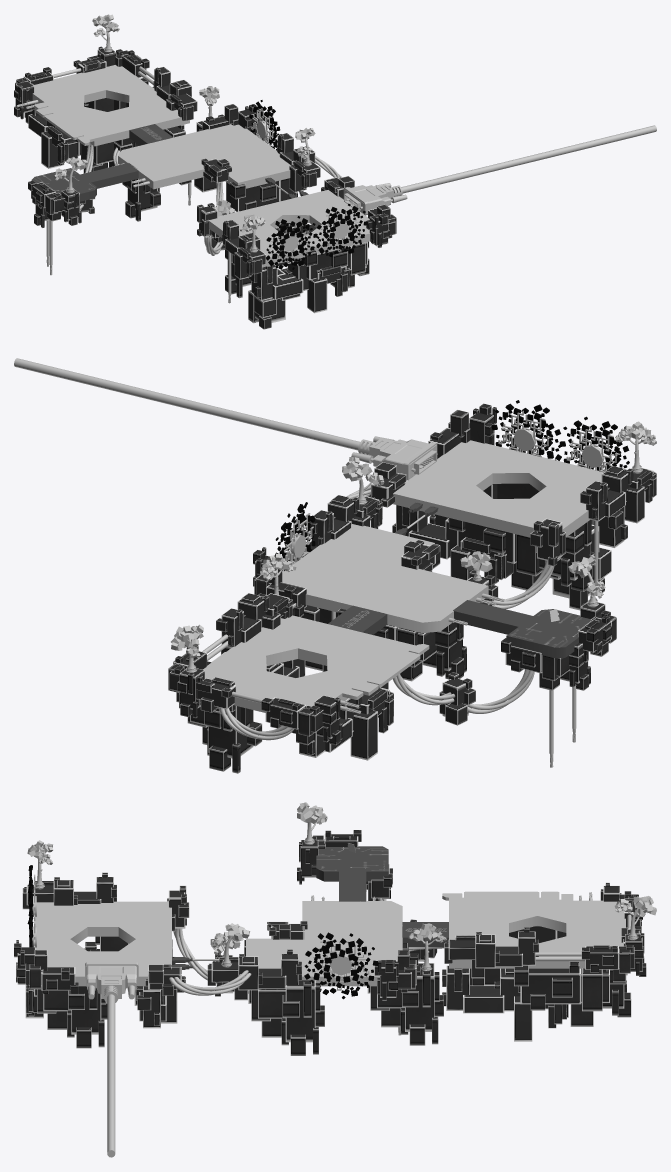
The model's file is LVLEntregaGameplay.FBX.
3 renders of one model, top to bottom at view 1: azimuth 30°, elevation 25°; view 2: azimuth 150°, elevation 25°; view 3: azimuth 270°, elevation 25°, orthographic. The views are drawn at different scales.
Visible parts, largest first — view 1: Terra1; view 2: Terra1; view 3: Terra1.
Boxes of the visible parts, bbox=[...] form: Terra1: bbox=[14, 14, 656, 329]; Terra1: bbox=[14, 358, 656, 773]; Terra1: bbox=[14, 802, 656, 1157].
Bounding box in the file's own units: 6562 × 1690 × 5543.
